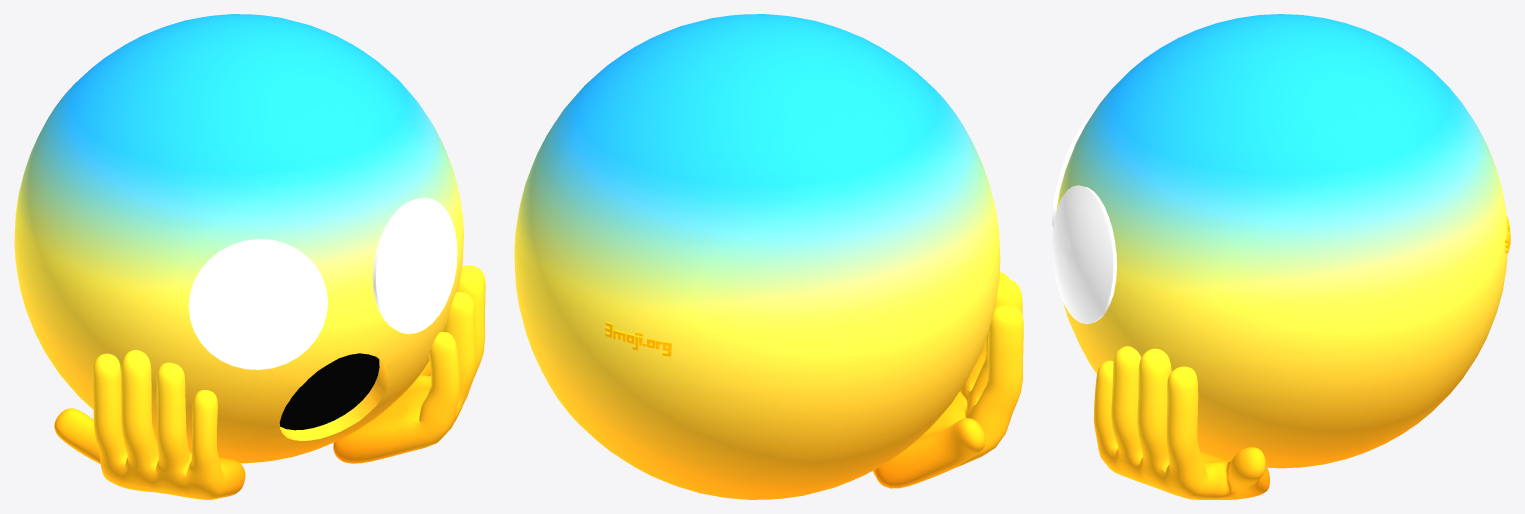
Rendered from face_screaming_in_fear.gltf.
The picture shows the model from 3 angles, left to right: view 1: azimuth 30°, elevation 25°; view 2: azimuth 150°, elevation 25°; view 3: azimuth 270°, elevation 25°; orthographic projection. The views are drawn at different scales.
Visible parts, largest first — view 1: Face Screaming in Fear; view 2: Face Screaming in Fear; view 3: Face Screaming in Fear.
Boxes of the visible parts, box(x1,y1,x2,y2) form: Face Screaming in Fear: box(14, 14, 485, 499); Face Screaming in Fear: box(514, 14, 1023, 499); Face Screaming in Fear: box(1052, 14, 1510, 499).
Bounding box in the file's own units: 1.71 × 1.69 × 1.71.
1 material, 1 textured.
